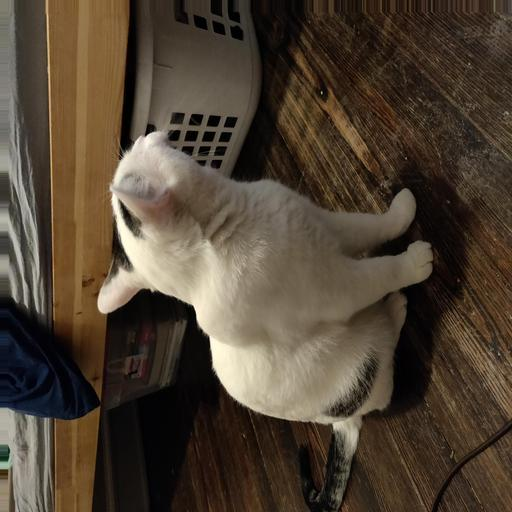cat: (93, 124, 386, 417)
